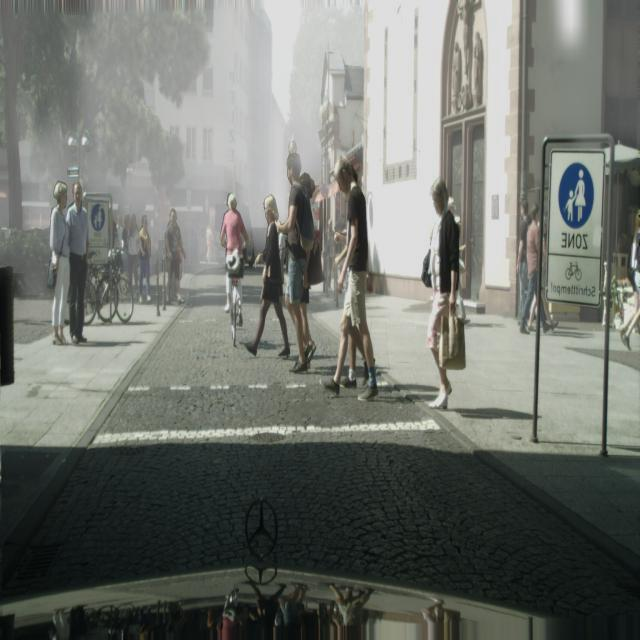car: (85, 249, 134, 324), (223, 191, 244, 344)
person: (325, 154, 378, 400), (275, 153, 316, 372), (242, 196, 291, 362), (426, 177, 460, 410), (48, 181, 71, 347), (67, 182, 90, 346), (519, 205, 541, 334), (623, 215, 640, 350), (164, 208, 185, 304), (516, 201, 530, 319), (138, 214, 152, 303), (127, 214, 140, 298), (323, 219, 335, 296)
